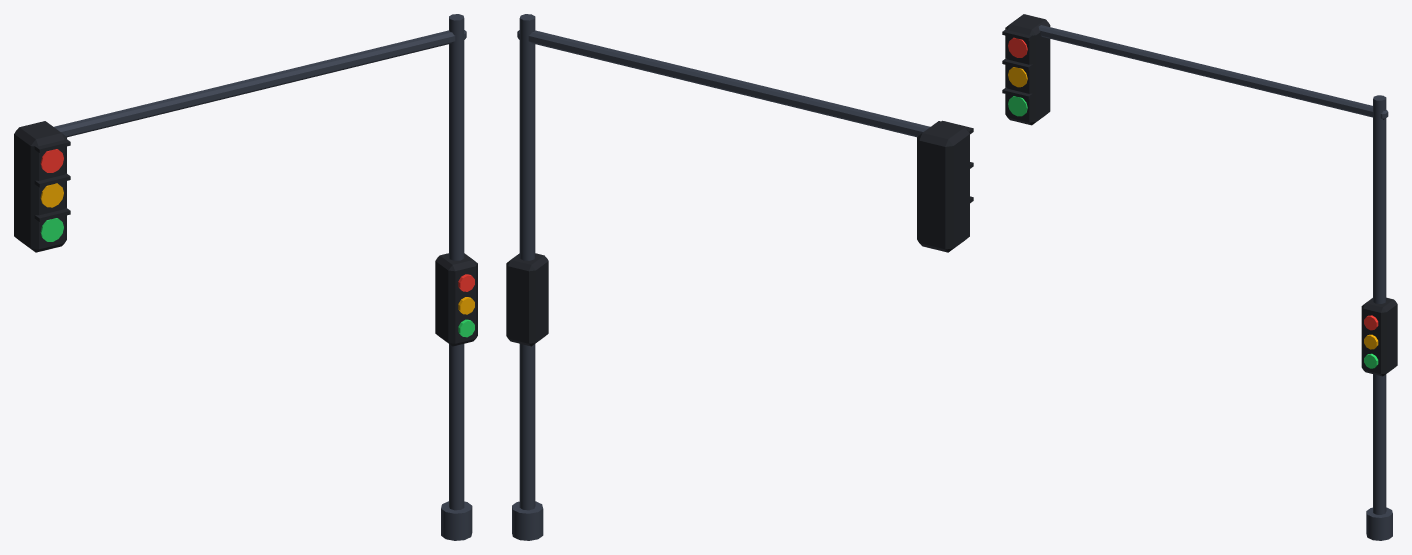
The model's file is trafficlight.glb.
3 views of the same model, side by side, from view 1: azimuth 30°, elevation 25°; view 2: azimuth 150°, elevation 25°; view 3: azimuth 330°, elevation 25° (orthographic). The views are drawn at different scales.
Parts seen in each view (by area): view 1: trafficlight_pole, tl_amber, tl_red, tl_green; view 2: trafficlight_pole; view 3: trafficlight_pole, tl_green, tl_amber, tl_red.
Part boxes in pixels (left/top/right/bottom): trafficlight_pole: left=14, top=14, right=477, bottom=540; tl_amber: left=40, top=183, right=474, bottom=314; tl_red: left=40, top=149, right=474, bottom=291; tl_green: left=40, top=218, right=474, bottom=337; trafficlight_pole: left=506, top=14, right=973, bottom=540; trafficlight_pole: left=1002, top=14, right=1397, bottom=540; tl_green: left=1008, top=96, right=1378, bottom=368; tl_amber: left=1008, top=67, right=1378, bottom=349; tl_red: left=1008, top=37, right=1378, bottom=330.
Bounding box in the file's own units: 5.18 × 5.7 × 0.515.
